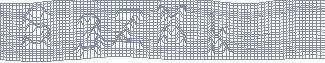3: (72, 12, 104, 60)
S: (20, 3, 54, 50)
X: (154, 4, 191, 49)
Z: (109, 8, 146, 52)
k: (206, 11, 237, 57)
